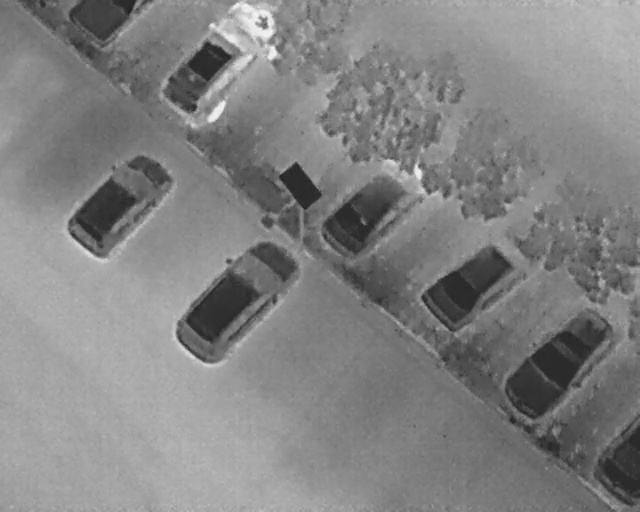Car: (160, 220, 314, 378), (307, 129, 452, 274), (414, 208, 557, 341), (53, 135, 188, 272), (493, 296, 629, 431), (160, 0, 278, 129), (587, 417, 638, 508), (67, 0, 152, 46)
